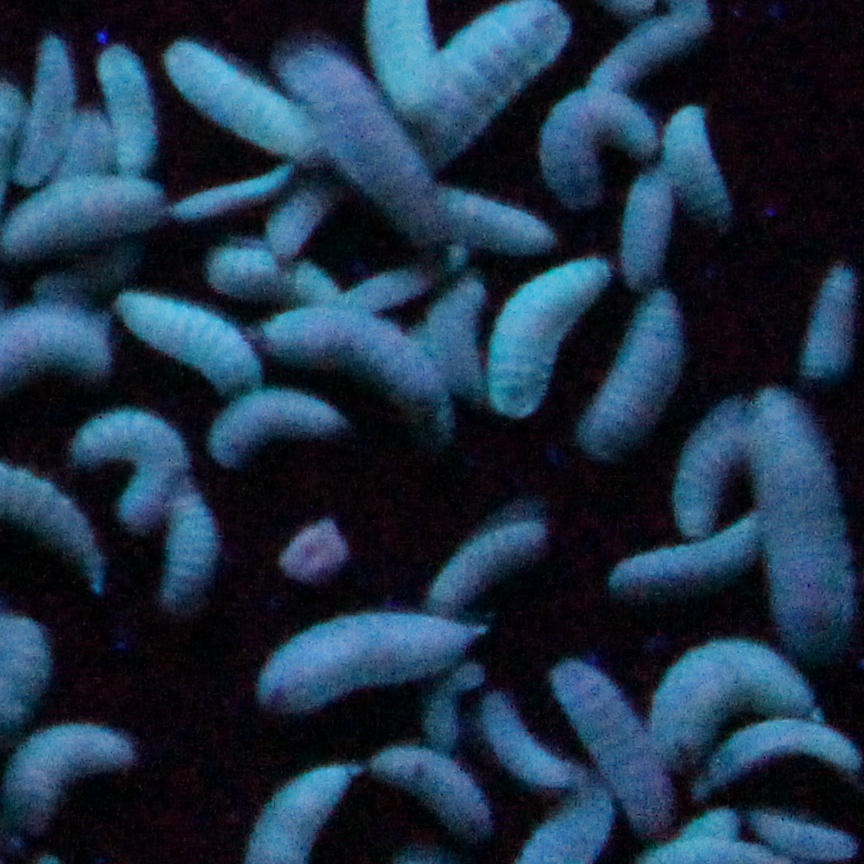larve: (273, 37, 461, 228), (743, 380, 854, 650), (543, 655, 684, 839), (257, 605, 504, 703), (400, 5, 568, 143), (159, 28, 329, 153), (484, 262, 614, 423), (79, 403, 207, 543), (650, 641, 836, 730), (591, 291, 689, 448), (282, 305, 450, 396), (539, 82, 666, 200), (118, 289, 279, 382), (693, 716, 861, 798), (361, 737, 498, 828), (657, 98, 743, 239), (600, 516, 766, 589), (423, 516, 559, 603), (477, 682, 584, 789), (675, 396, 741, 537), (16, 34, 77, 184), (209, 396, 357, 457), (611, 173, 684, 291), (93, 46, 154, 168), (439, 184, 554, 248), (807, 257, 861, 389), (159, 478, 207, 623), (748, 804, 861, 864), (202, 234, 298, 293), (173, 175, 304, 214), (259, 200, 339, 253)
